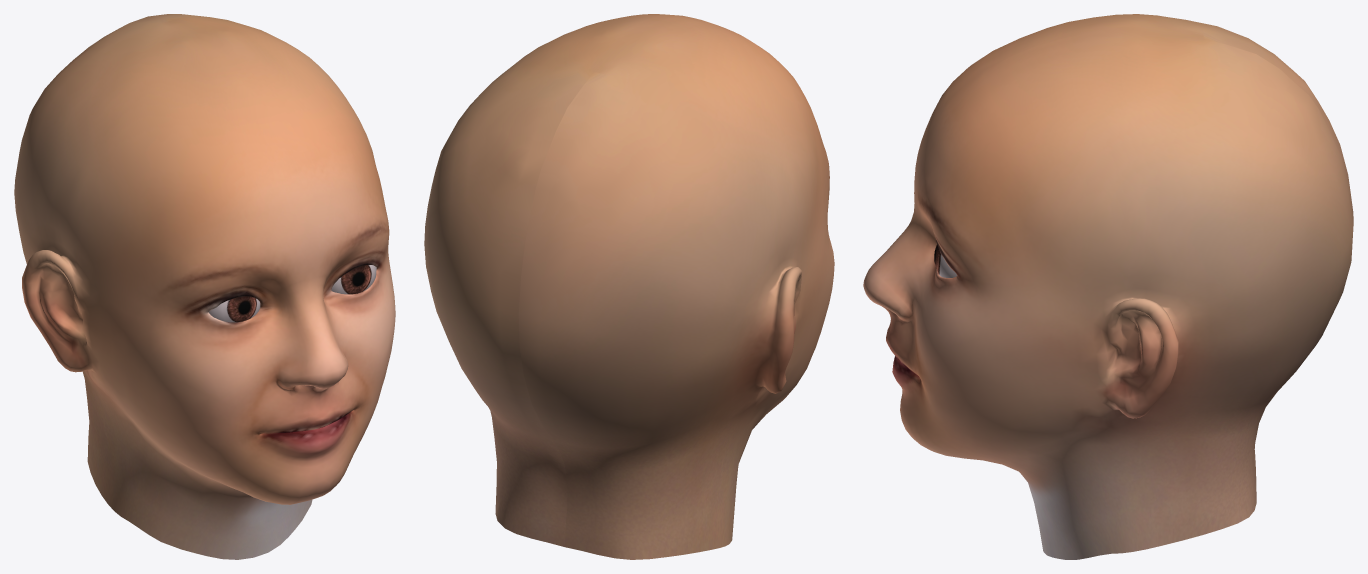
Rendered from HeadObject.fbx.
The picture shows the model from 3 angles, left to right: view 1: azimuth 30°, elevation 25°; view 2: azimuth 150°, elevation 25°; view 3: azimuth 270°, elevation 25°; orthographic projection. The views are drawn at different scales.
Parts seen in each view (by area): view 1: Head; view 2: Head; view 3: Head.
Boxes of the visible parts, bbox=[...] form: Head: bbox=[14, 14, 395, 559]; Head: bbox=[424, 14, 834, 559]; Head: bbox=[863, 14, 1353, 559].
Bounding box in the file's own units: 0.1736 × 0.2422 × 0.2098.
1 material, 1 textured.
